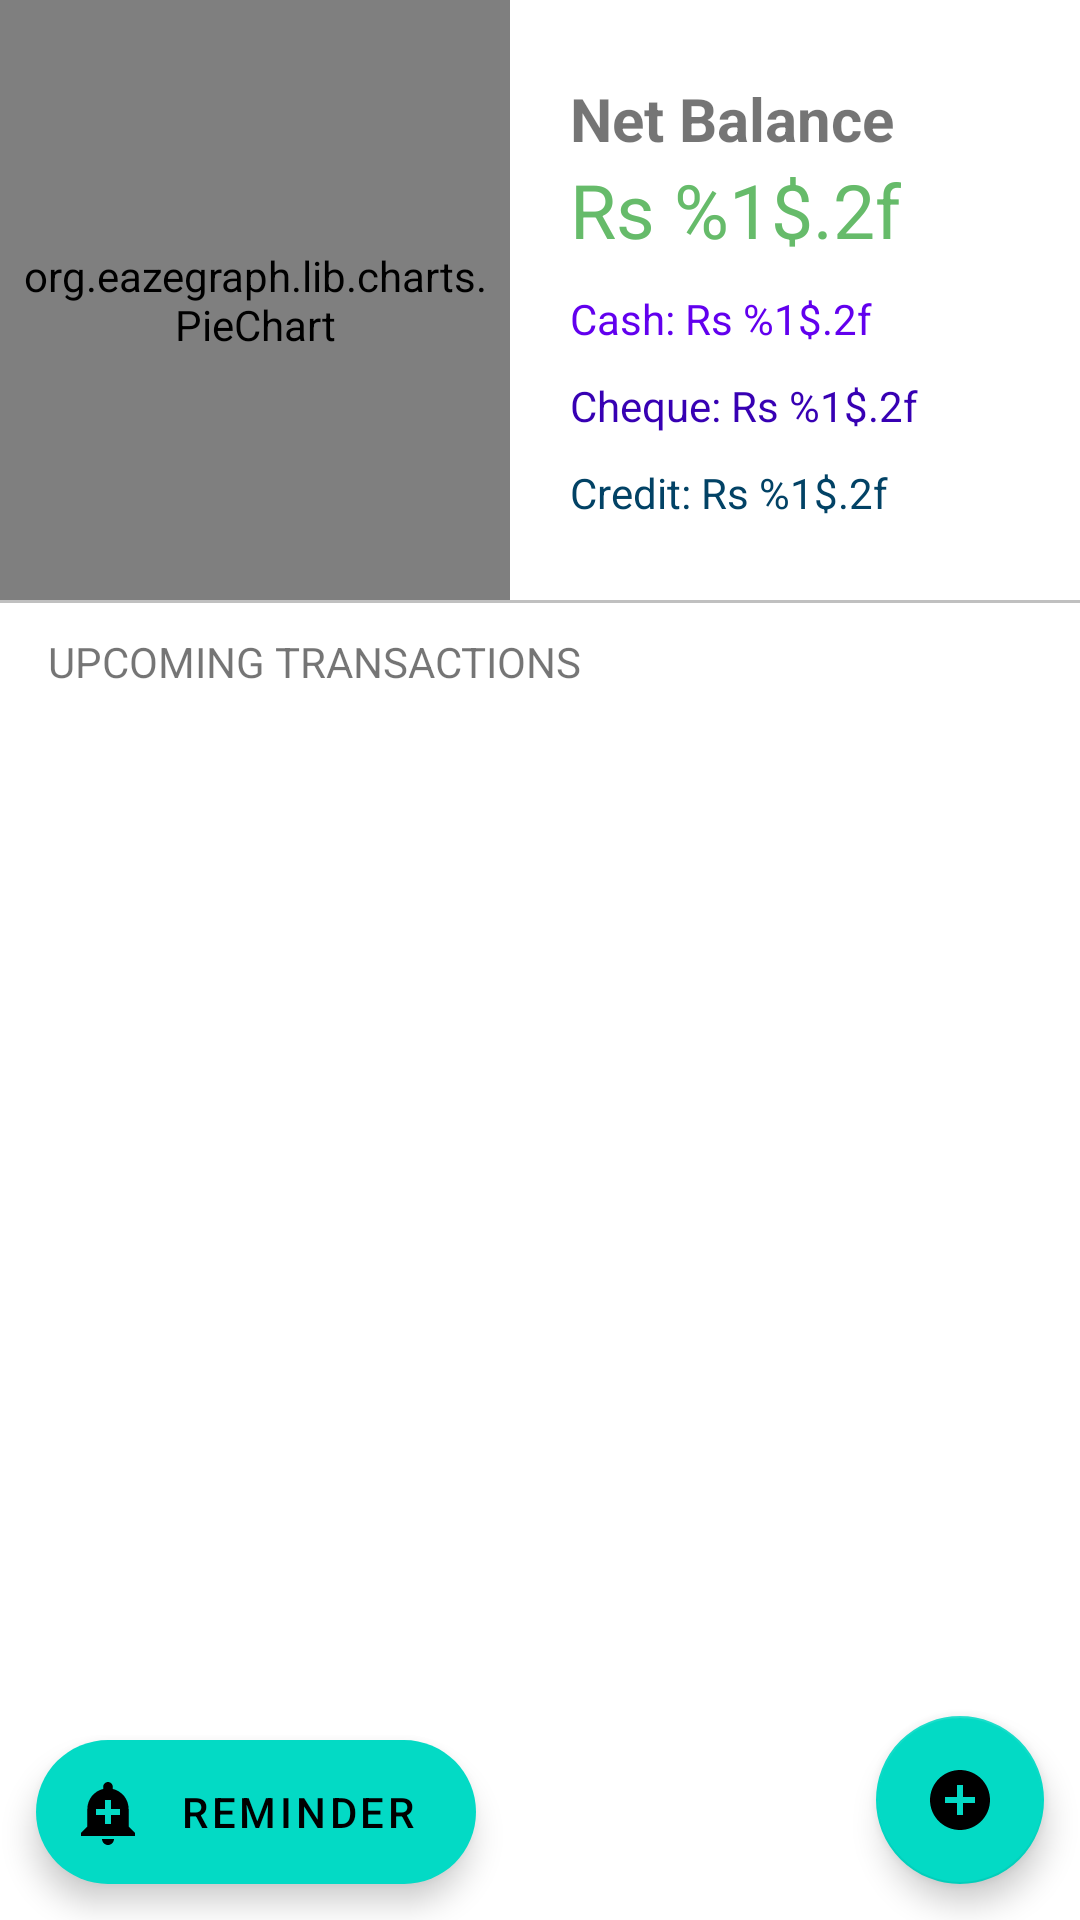

Icons on this 1080*1920 Android screen, each with the point to tap as [x,y]:
add: [960,1800]
